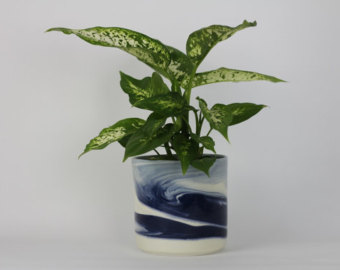flowerpot: (132, 155, 228, 253)
